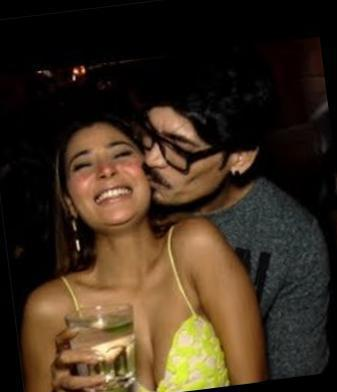Drunk: (68, 130, 145, 225), (141, 109, 212, 206)
